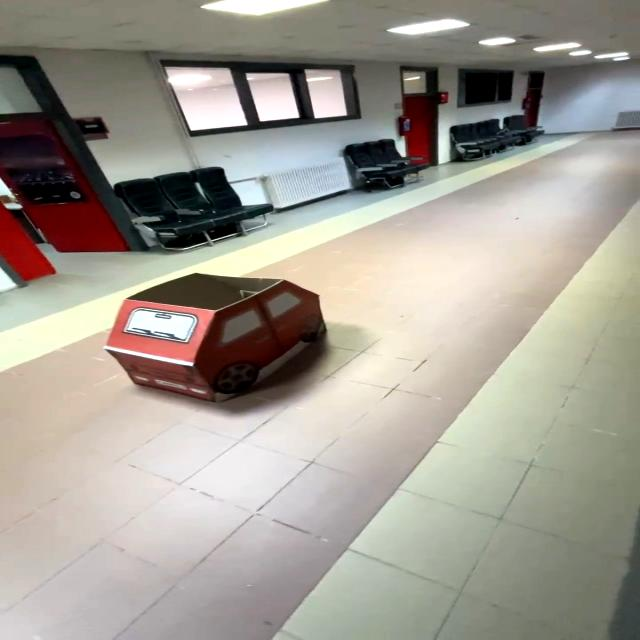red_car: (79, 262, 360, 412)
